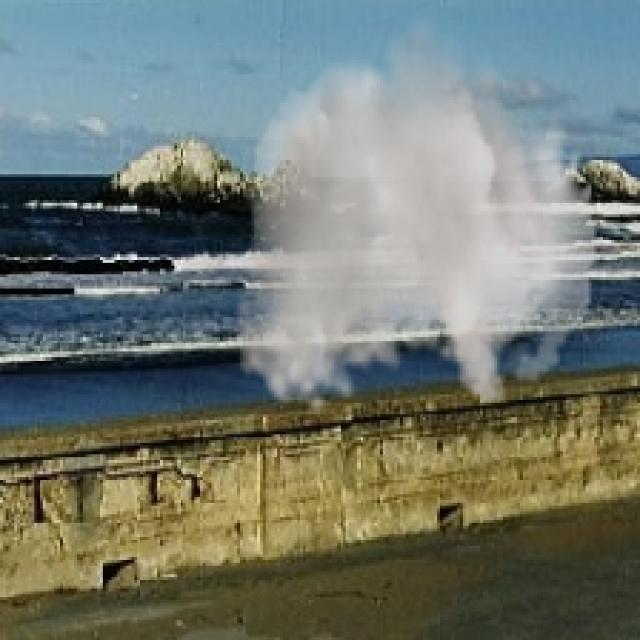Smoke: (234, 6, 597, 420)
